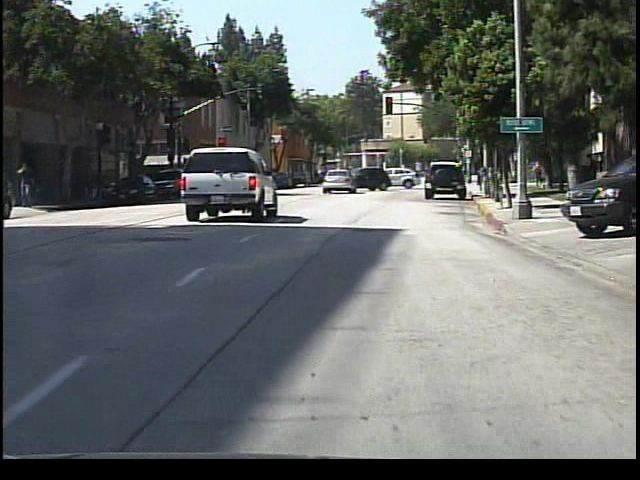person: (20, 161, 41, 210), (322, 161, 340, 192), (531, 158, 547, 191), (476, 155, 491, 183)
